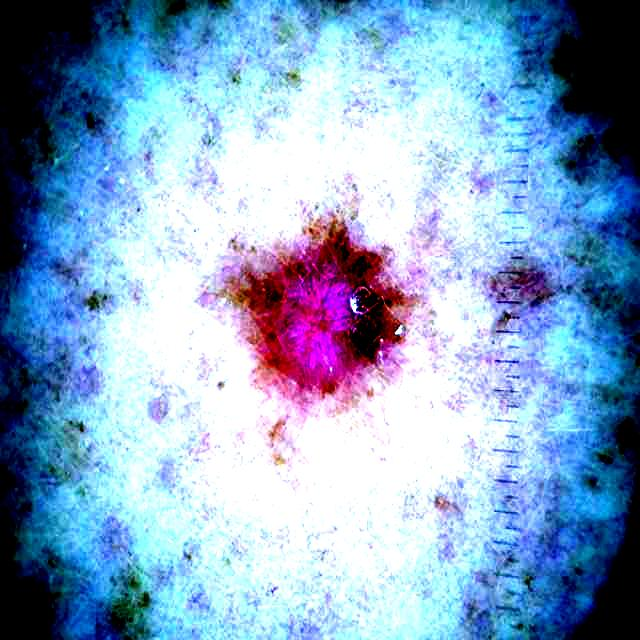DF: (269, 240, 405, 392)
